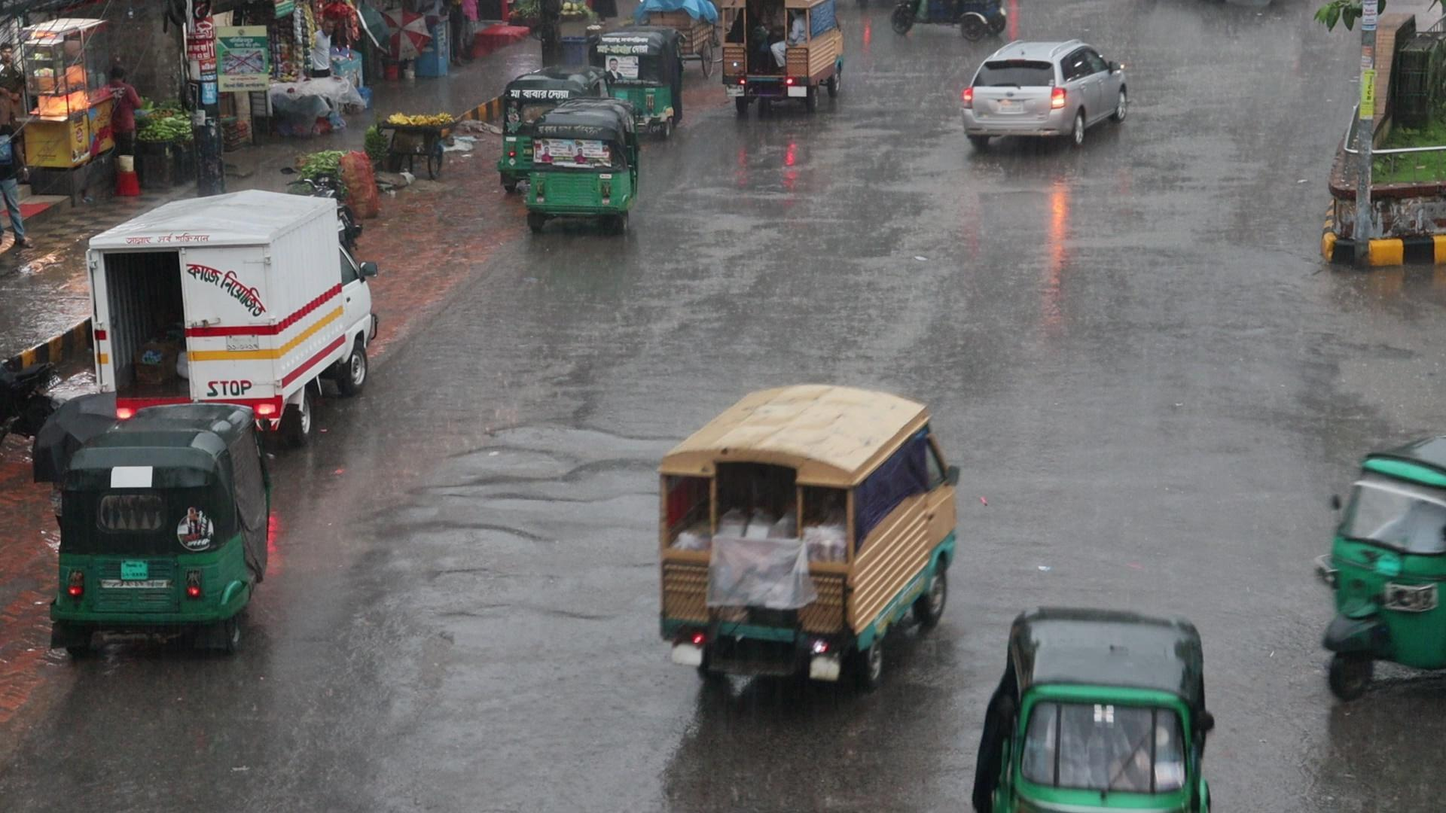Car: (960, 40, 1129, 147)
Truck: (653, 382, 958, 684), (720, 0, 847, 112)
